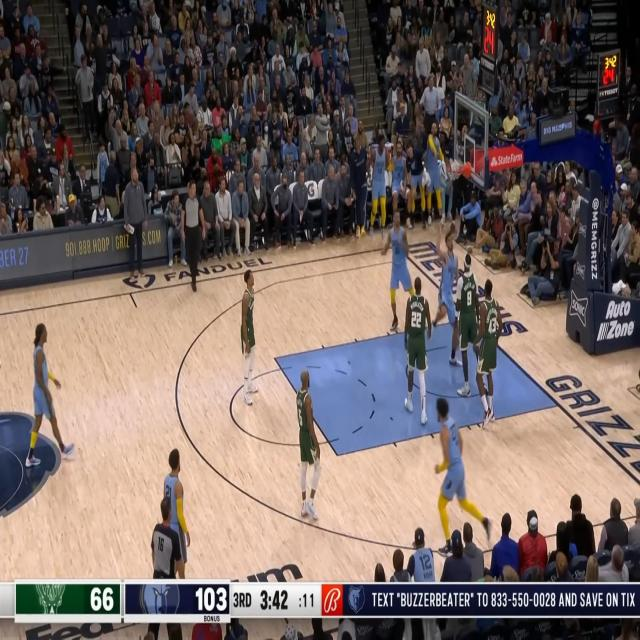Ball: (452, 162, 460, 175)
Hoop: (447, 159, 462, 183)
Period: (231, 589, 253, 612)
Player: (434, 393, 494, 554), (23, 323, 74, 465), (456, 251, 488, 400), (380, 210, 416, 338), (432, 217, 462, 366), (404, 276, 432, 424), (296, 366, 322, 523), (475, 280, 502, 430), (162, 446, 191, 580), (240, 267, 260, 408)
Ref: (180, 180, 206, 292)
Shot Clock: (298, 588, 316, 613)
Team Points: (194, 584, 228, 612), (89, 586, 115, 614)
Time Remaining: (260, 588, 290, 613)
